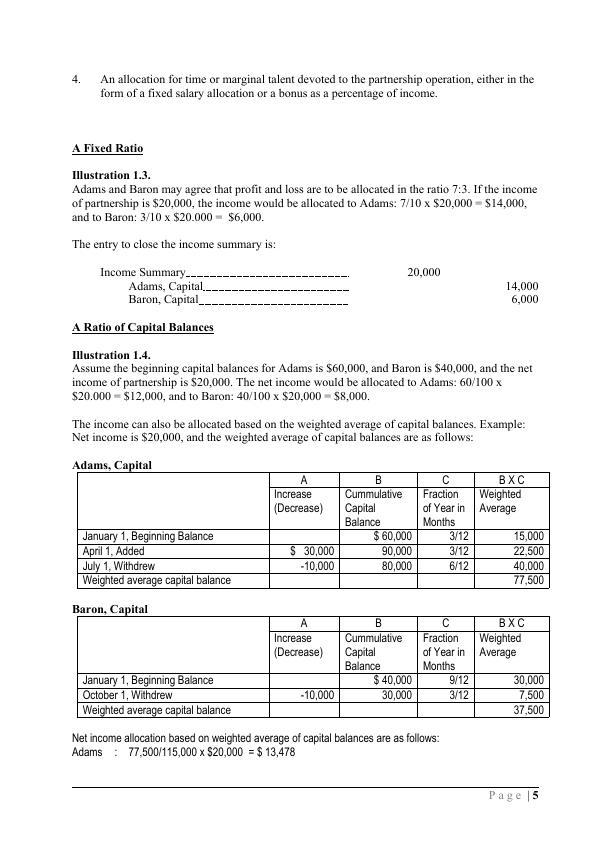table: (76, 470, 554, 591), (69, 614, 558, 721)
text: (64, 139, 551, 312), (67, 319, 537, 448), (63, 67, 544, 107), (67, 729, 444, 761), (69, 454, 154, 470), (71, 602, 150, 616)
